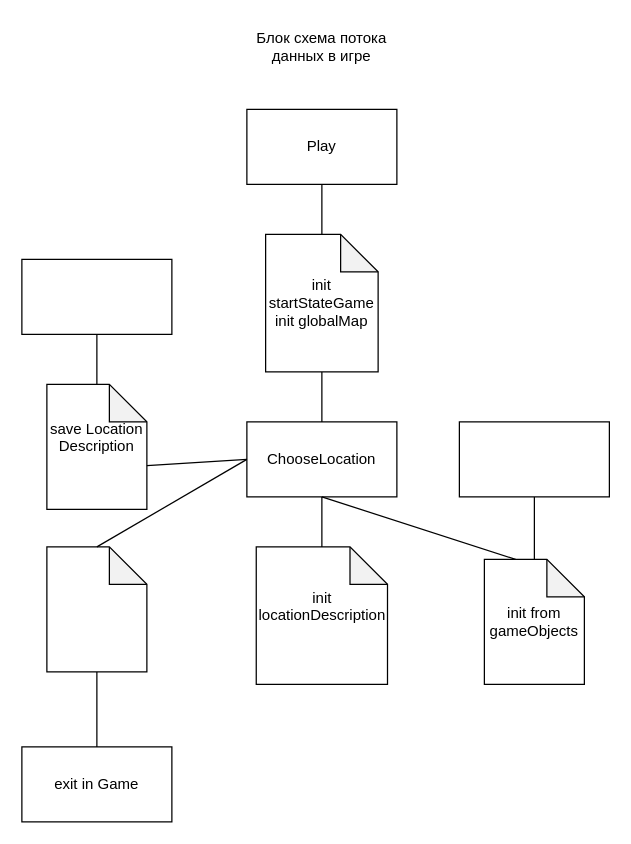
This 631x844 diagram has some shape labels left out. Each missing label, with the centre of its shape:
"ChooseInventory" belongs at [533,459].
"Exit in GlobalMap" belongs at [96,296].
"saveLocation description save GameObject" belongs at [96,609].
